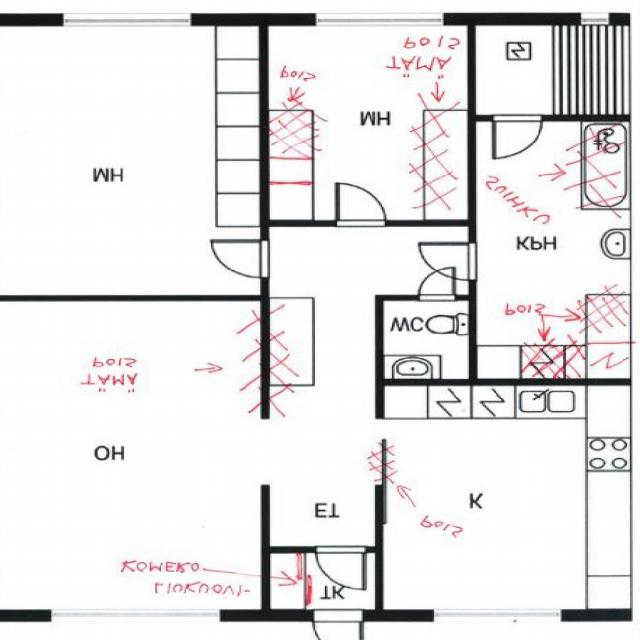door: (211, 240, 269, 278), (420, 243, 477, 280), (494, 115, 542, 158), (317, 546, 365, 589), (338, 183, 386, 226), (314, 609, 362, 640), (420, 266, 456, 300)
